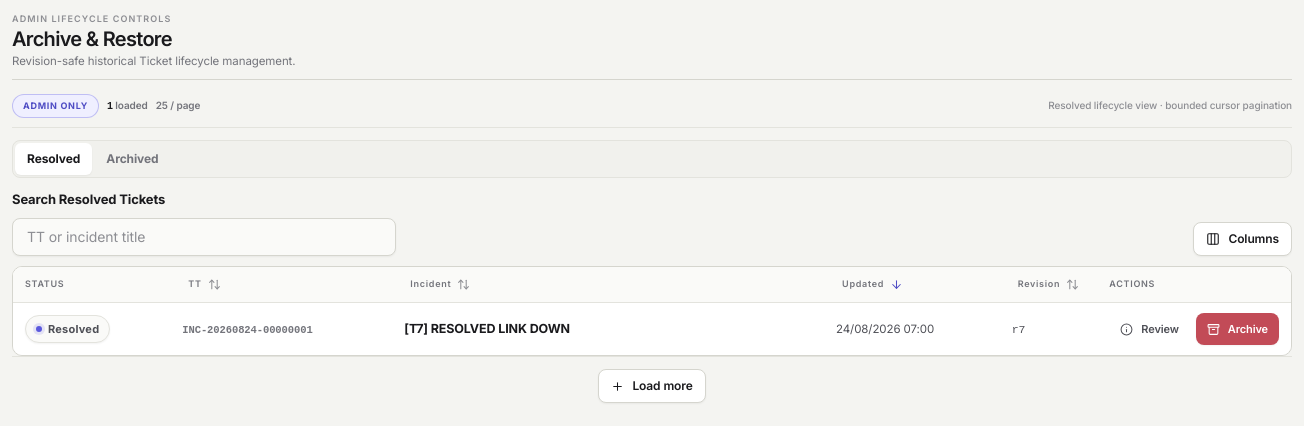
ArchiveManagementPage › continues the bounded 25-ticket query with the repository cursor
The width and height of the screenshot is (1304, 426).
Click the button "Load more" at (652, 386), box [598, 369, 706, 403]
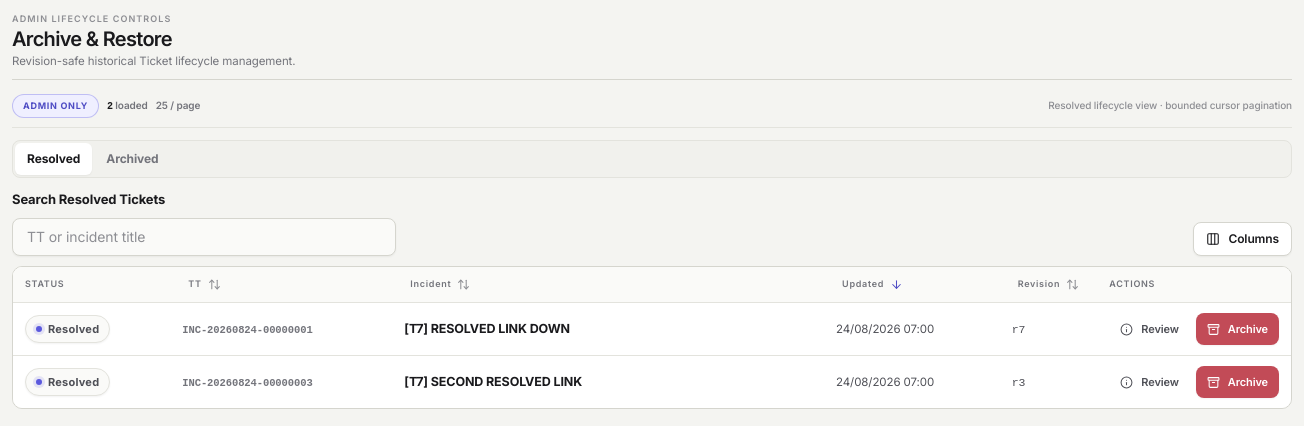
Check: the button "Load more" is gone
